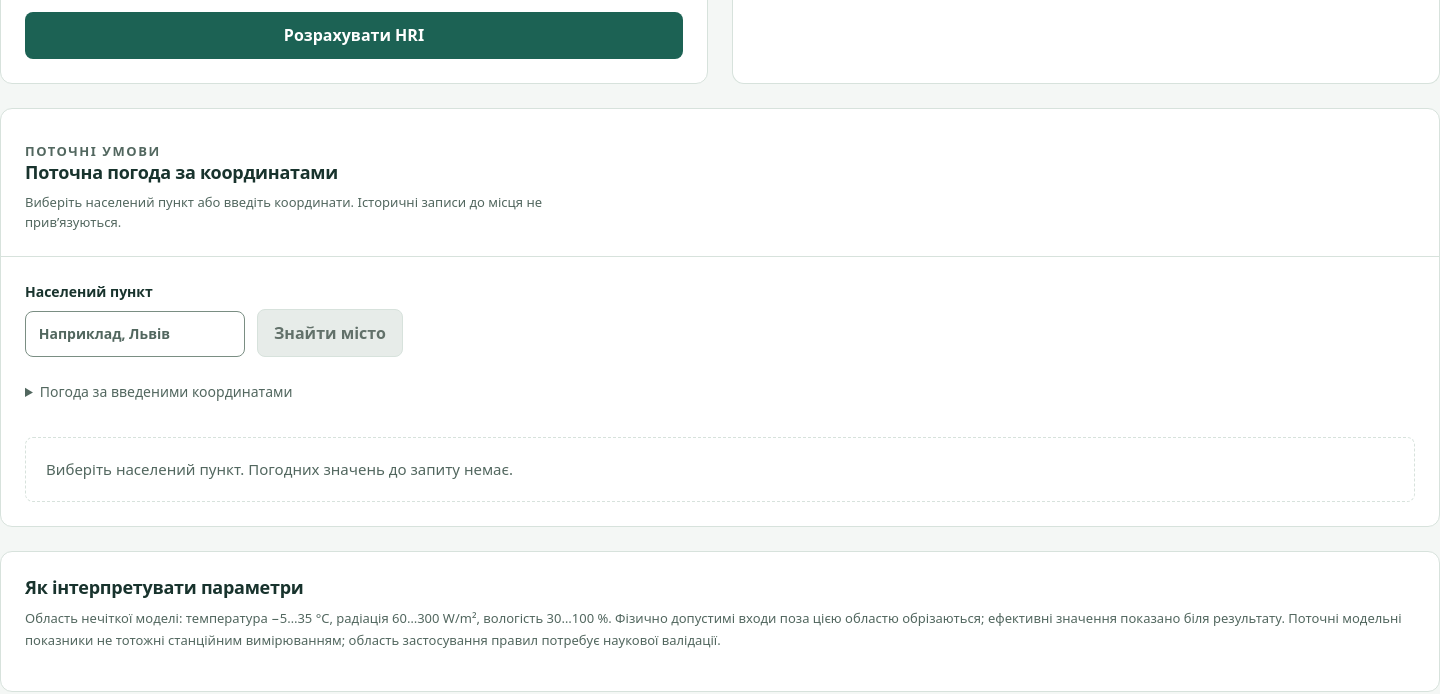
it: HRI scenario › can fill parameters from explicit city weather request
(page scrolled)
Type "місто" into the field labelled "Населений пункт" at (135, 334), box x1=25 y1=311 x2=245 y2=357
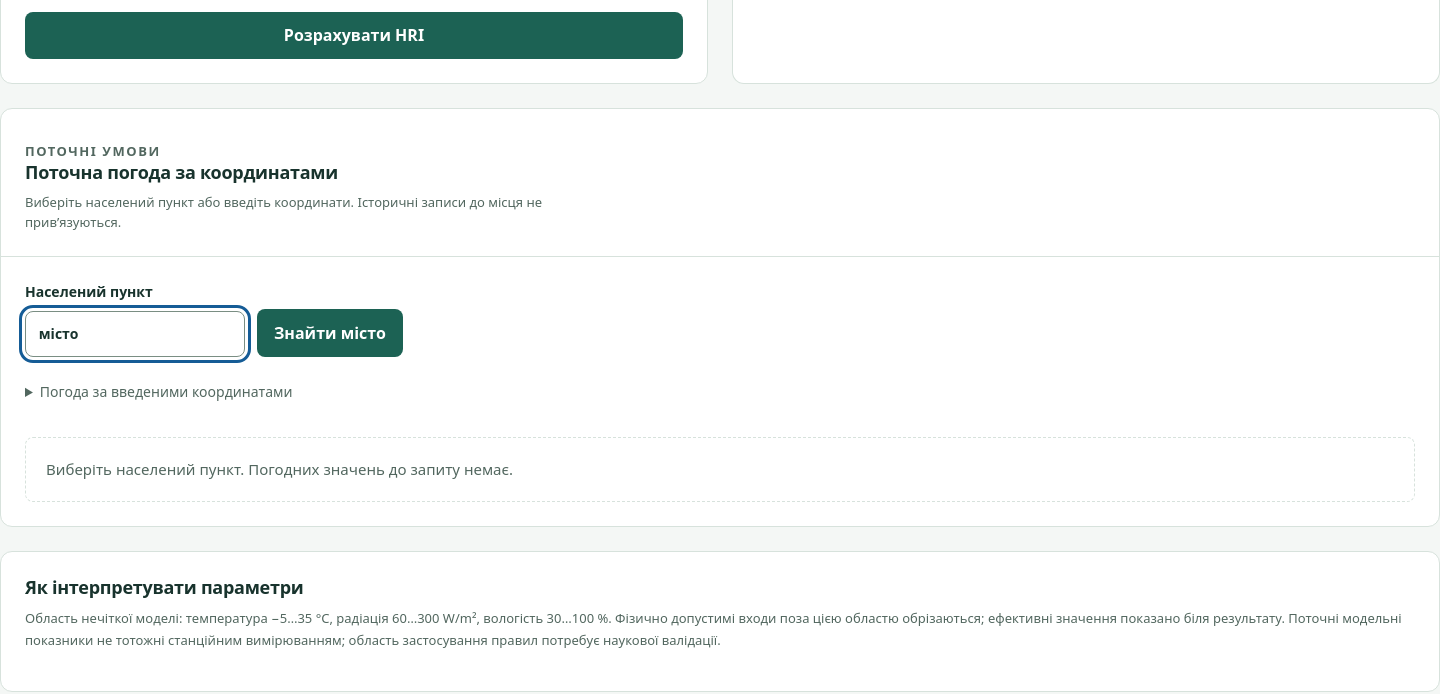
Click the button "Знайти місто" at (330, 333), box x1=257 y1=309 x2=403 y2=357
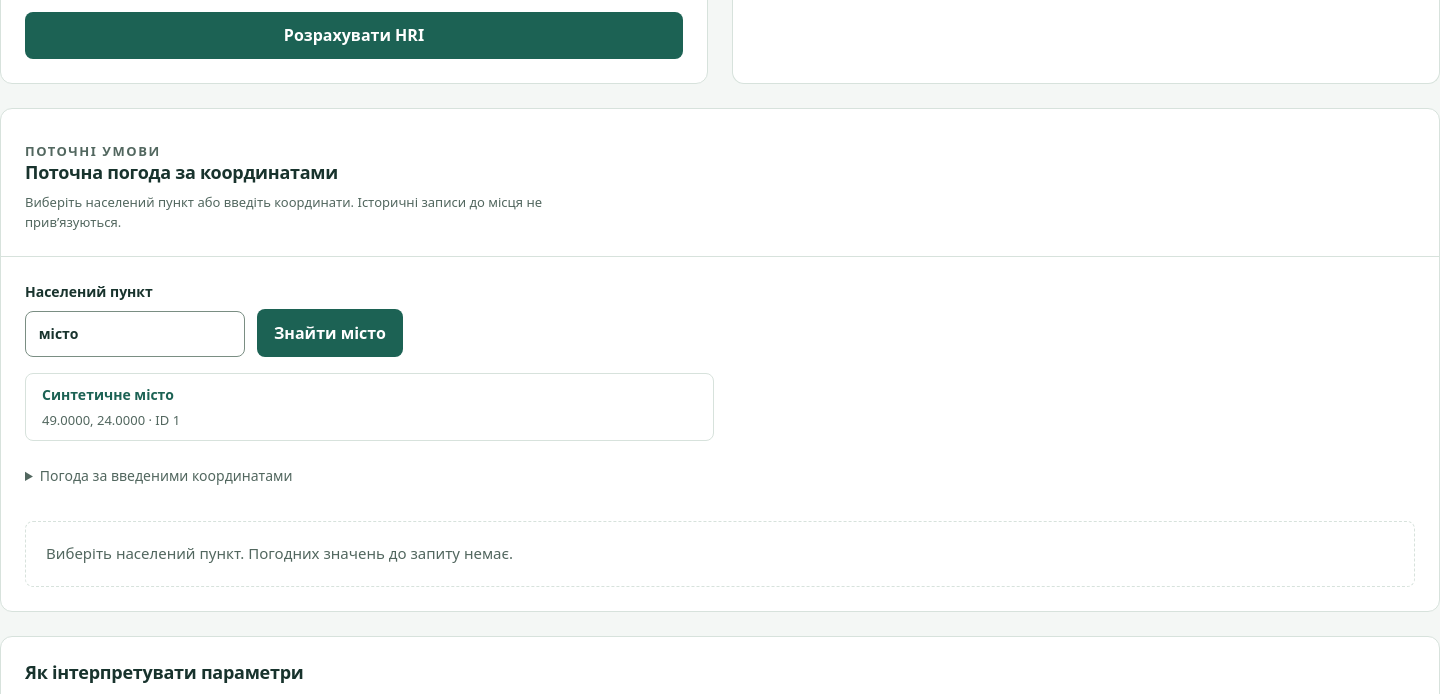
Click the button "Синтетичне місто 49.0000, 24.0000 · ID 1" at (108, 395), box x1=25 y1=373 x2=714 y2=441
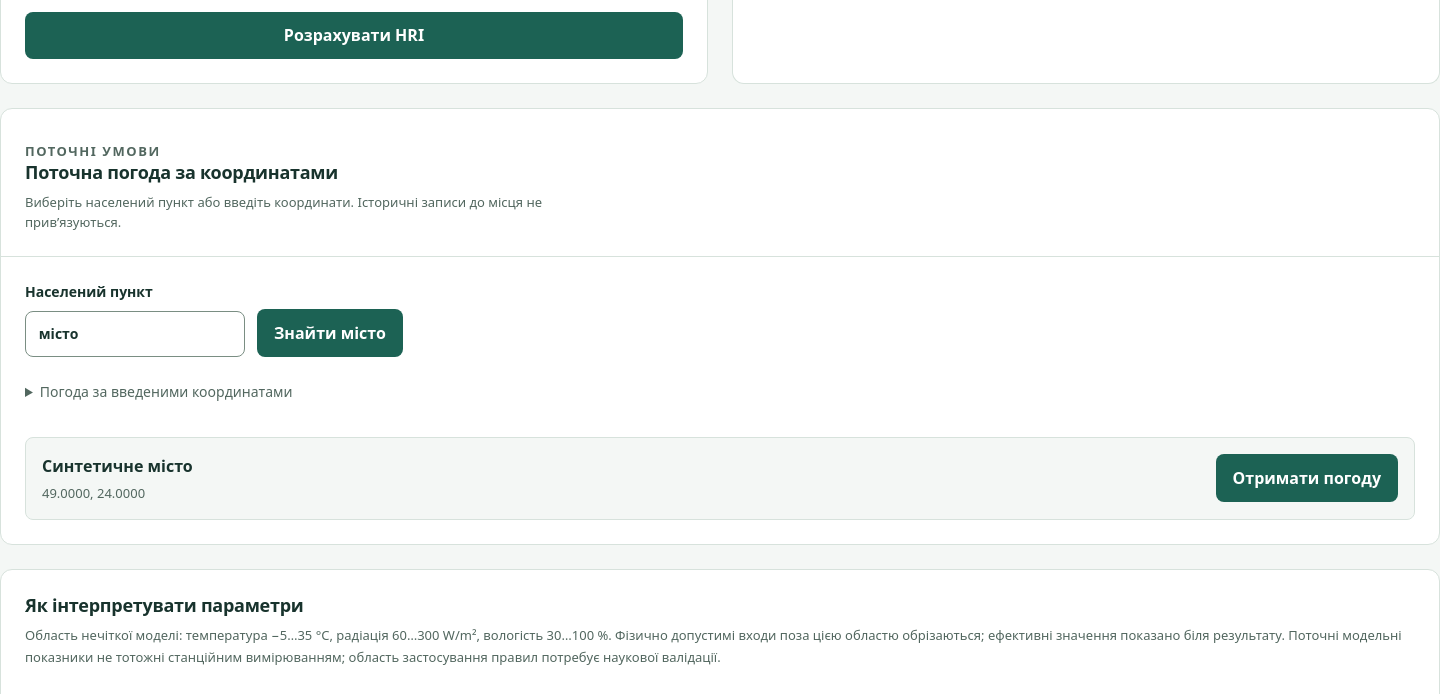
Click the button "Отримати погоду" at (1307, 478), box x1=1216 y1=454 x2=1398 y2=502
(page scrolled)
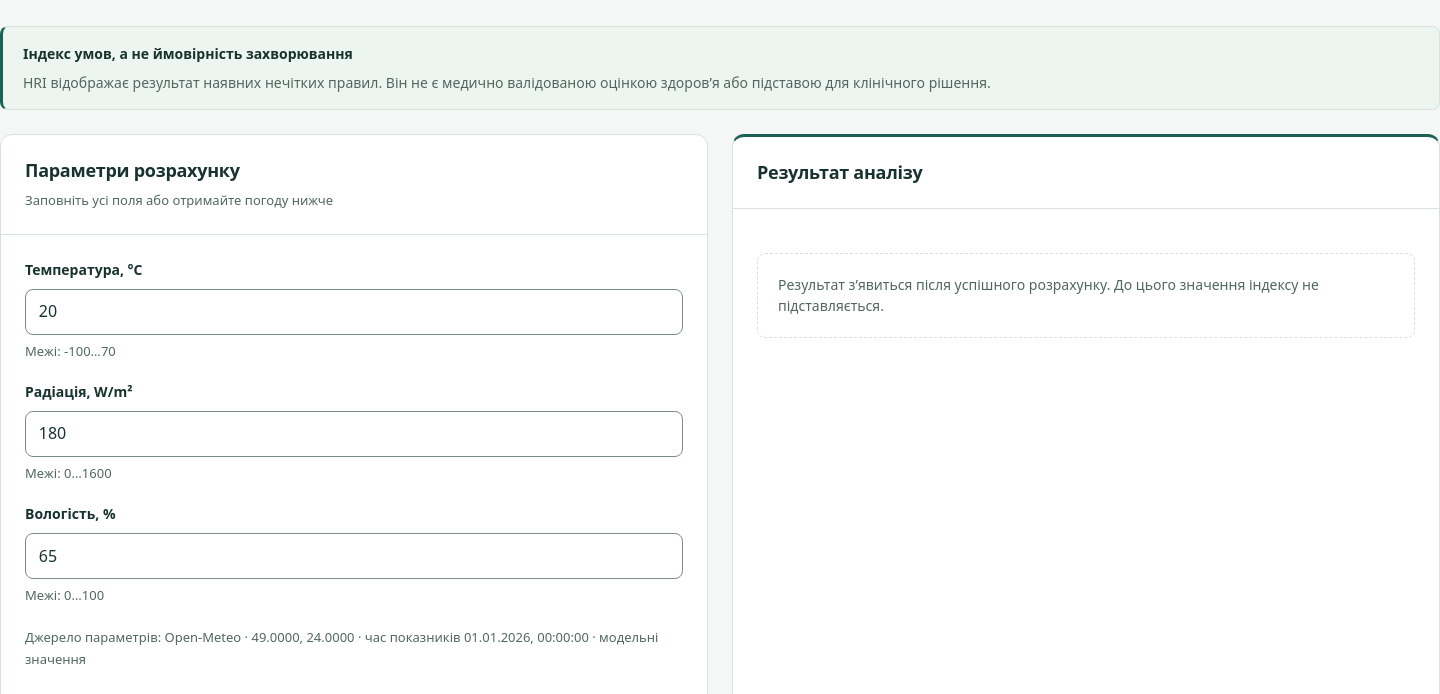
Check: the number field labelled "Температура, °C" holds "20", box x1=25 y1=288 x2=683 y2=334
